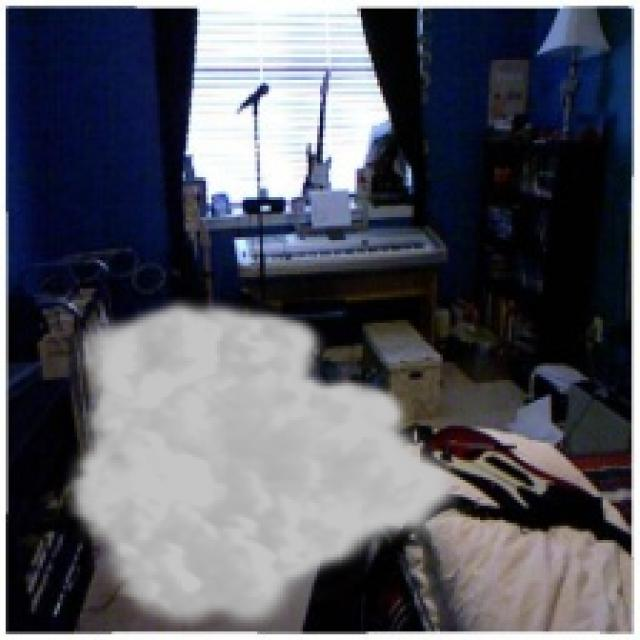smoke: (63, 294, 466, 637)
